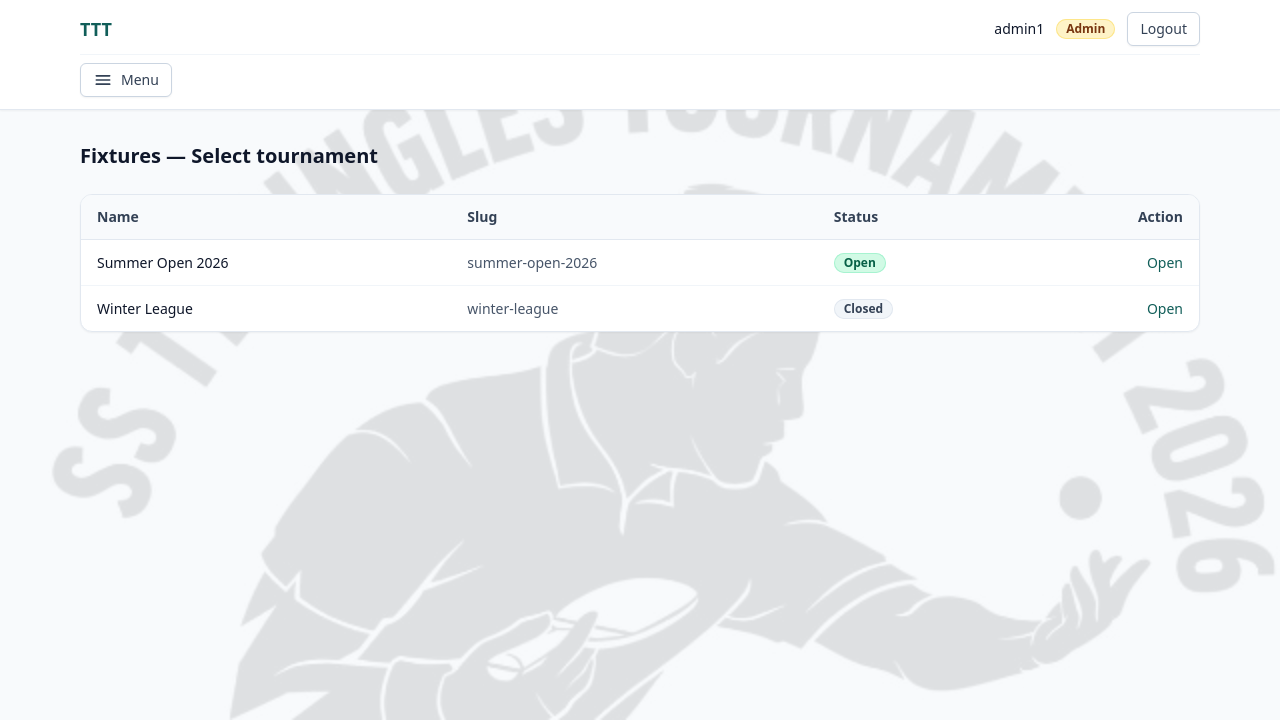
Test case: Fixtures tournament picker › opens the fixtures screen for a tournament
The image size is (1280, 720).
expect the heading "Fixtures — Select tournament" is shown: met, box [80,142,378,170]
expect the text "Summer Open 2026" is shown: met, box [81,240,451,286]
Click the link "Open" in the row of "Summer Open 2026": click(1165, 262) [1147,252,1183,272]
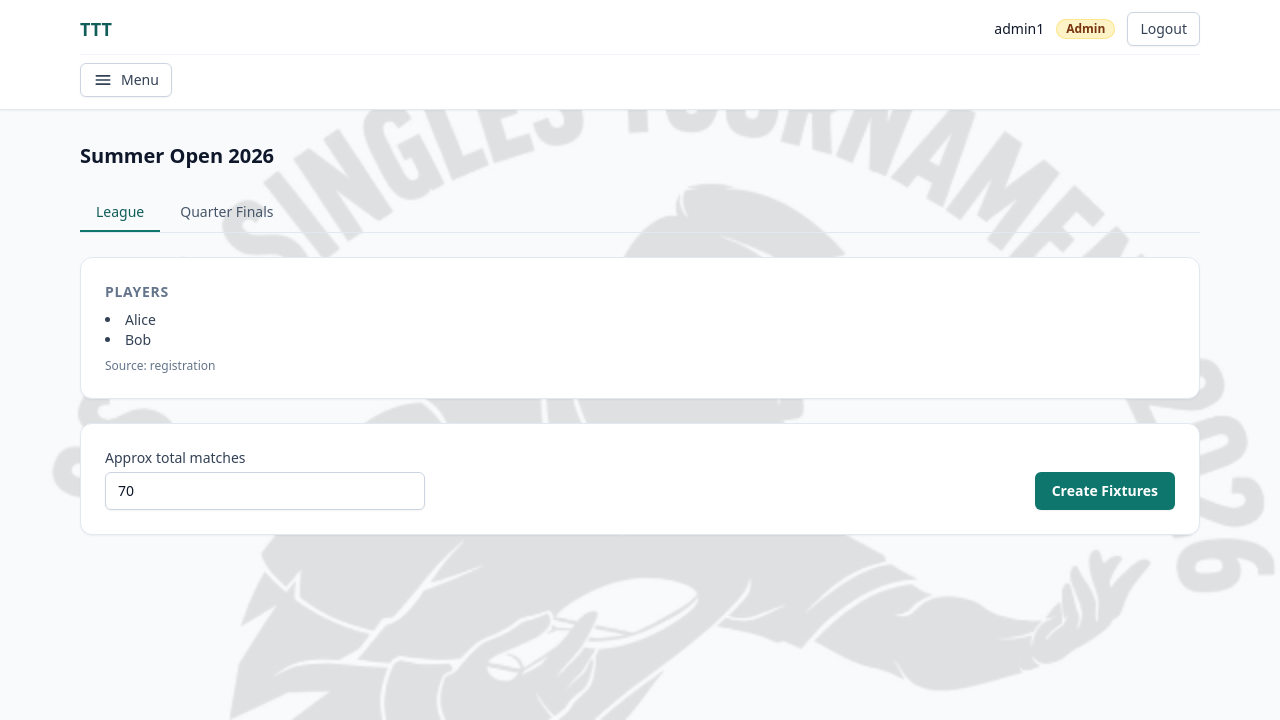
expect the list item "Alice" is shown: met, box [125,310,156,329]
expect the number field labelled "Approx total matches" is shown: met, box [105,472,425,510]
